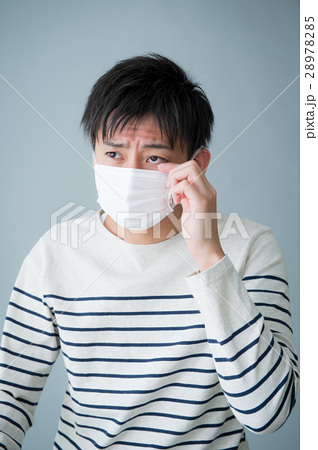mask: (92, 165, 173, 234)
